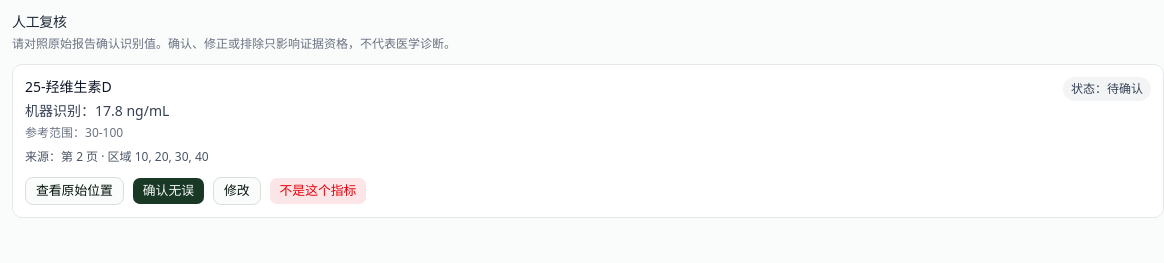
Test case: HealthDocumentReviewPanel › confirms the exact server-owned run/candidate/source refs and refreshes effective state
Click the button "确认无误".
click(168, 191)  # box [132,177,205,205]
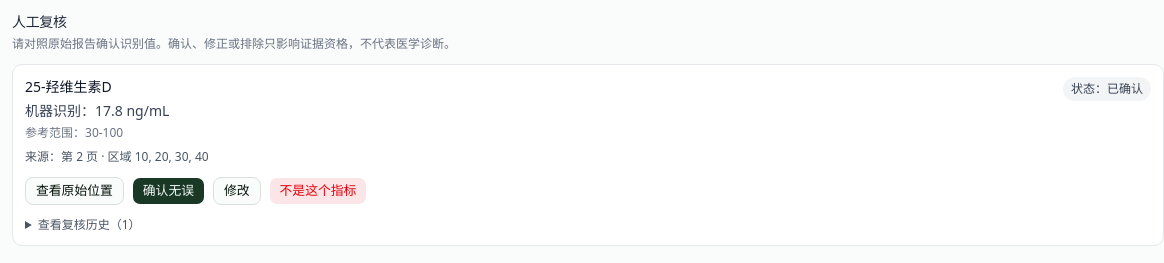
Check: the text "状态：已确认" is shown, box [1063,77,1151,101]
Check: the heading "查看复核历史（1）" is shown, box [38,216,141,233]
